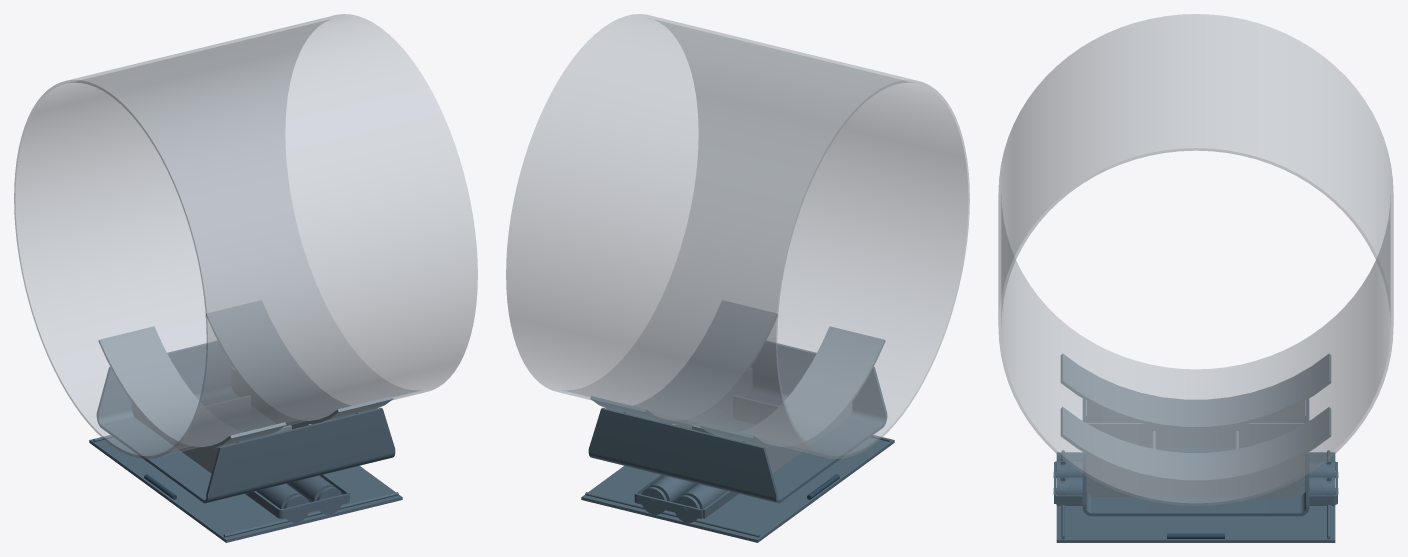
Rendered from TS-630.00.000-09-opora-dn1220-hod800.glb.
3 views of the same model, side by side, from view 1: azimuth 30°, elevation 25°; view 2: azimuth 150°, elevation 25°; view 3: azimuth 270°, elevation 25° (orthographic).
Parts seen in each view (by area): view 1: truba, o624_skoba_9, o624_podushka_14, o624_podushka_15, plita_osnovanie_0, obojma_ugolnik_7, obojma_katok_5, obojma_katok_6, rebro630_16, o624_rebro3_10, o624_rebro4_13; view 2: truba, o624_skoba_9, o624_podushka_14, o624_podushka_15, plita_osnovanie_0, obojma_katok_5, obojma_katok_6, rebro630_17, o624_rebro3_10, o624_rebro4_13, obojma_ugolnik_8; view 3: truba, o624_podushka_14, o624_podushka_15, plita_osnovanie_0, o624_skoba_9, o624_rebro3_11, o624_rebro4_12, obojma_katok_5, o624_rebro3_10, obojma_katok_6, obojma_ugolnik_8.
Part boxes in pixels (box(x1,y1,x2,y2)): truba: box(14, 14, 477, 458); o624_skoba_9: box(96, 341, 395, 503); o624_podushka_14: box(98, 326, 286, 450); o624_podushka_15: box(206, 300, 393, 423); plita_osnovanie_0: box(89, 437, 402, 542); obojma_ugolnik_7: box(245, 491, 348, 518); obojma_katok_5: box(286, 475, 342, 514); obojma_katok_6: box(256, 483, 309, 522); rebro630_16: box(205, 395, 250, 424); o624_rebro3_10: box(131, 402, 241, 473); o624_rebro4_13: box(231, 367, 311, 429); truba: box(506, 14, 969, 458); o624_skoba_9: box(588, 341, 887, 503); o624_podushka_14: box(697, 326, 885, 450); o624_podushka_15: box(590, 300, 777, 423); plita_osnovanie_0: box(581, 437, 894, 542); obojma_katok_5: box(641, 475, 697, 514); obojma_katok_6: box(674, 483, 727, 522); rebro630_17: box(733, 395, 778, 424); o624_rebro3_10: box(742, 402, 852, 473); o624_rebro4_13: box(672, 367, 752, 429); obojma_ugolnik_8: box(634, 474, 702, 518); truba: box(998, 14, 1393, 505); o624_podushka_14: box(1060, 353, 1331, 429); o624_podushka_15: box(1060, 407, 1331, 483); plita_osnovanie_0: box(1056, 452, 1335, 542); o624_skoba_9: box(1082, 399, 1309, 516); o624_rebro3_11: box(1086, 454, 1305, 496); o624_rebro4_12: box(1087, 423, 1304, 447); obojma_katok_5: box(1053, 476, 1338, 505); o624_rebro3_10: box(1086, 401, 1305, 422); obojma_katok_6: box(1053, 460, 1338, 480); obojma_ugolnik_8: box(1056, 462, 1337, 504).
Size of the model in its own units: 980 by 1425 by 1220.
